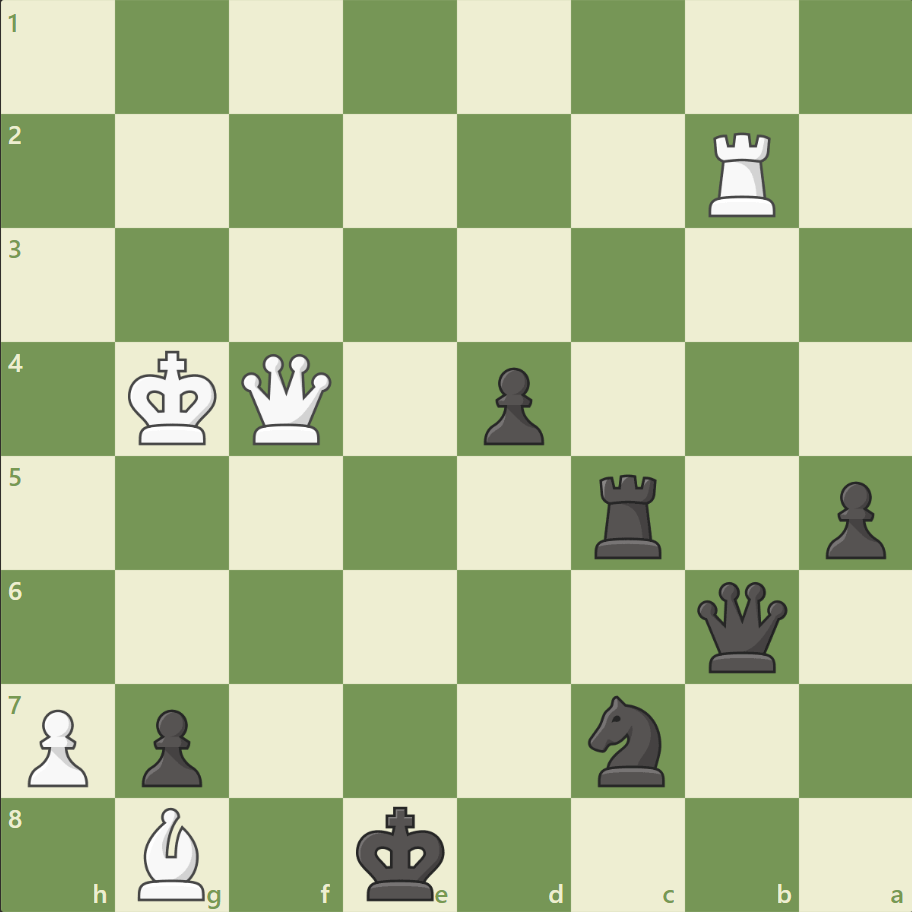B: (131, 801, 215, 904)
K: (124, 344, 224, 452)
P: (20, 700, 95, 791)
Q: (237, 349, 336, 449)
R: (700, 125, 783, 222)
k: (351, 798, 451, 906)
n: (579, 688, 676, 791)
p: (133, 700, 208, 791), (474, 359, 549, 450), (815, 473, 889, 564)
q: (691, 576, 790, 676)
r: (587, 466, 670, 563)
